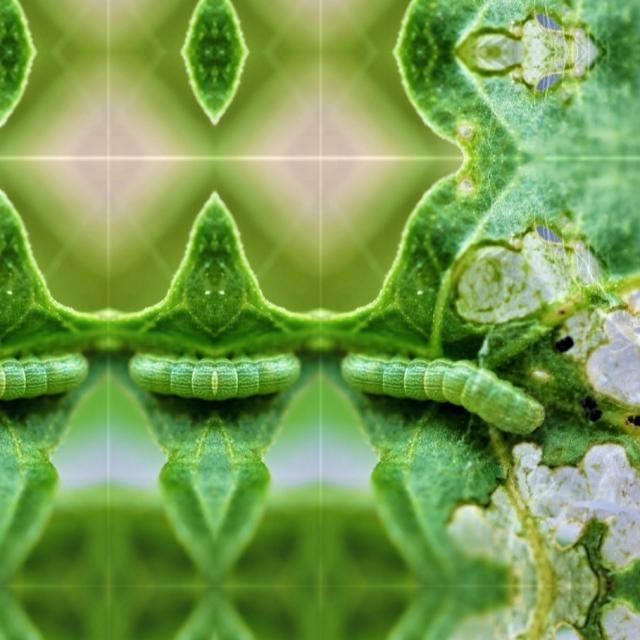armyworm: (336, 343, 548, 441), (119, 350, 312, 403), (0, 355, 98, 398)
